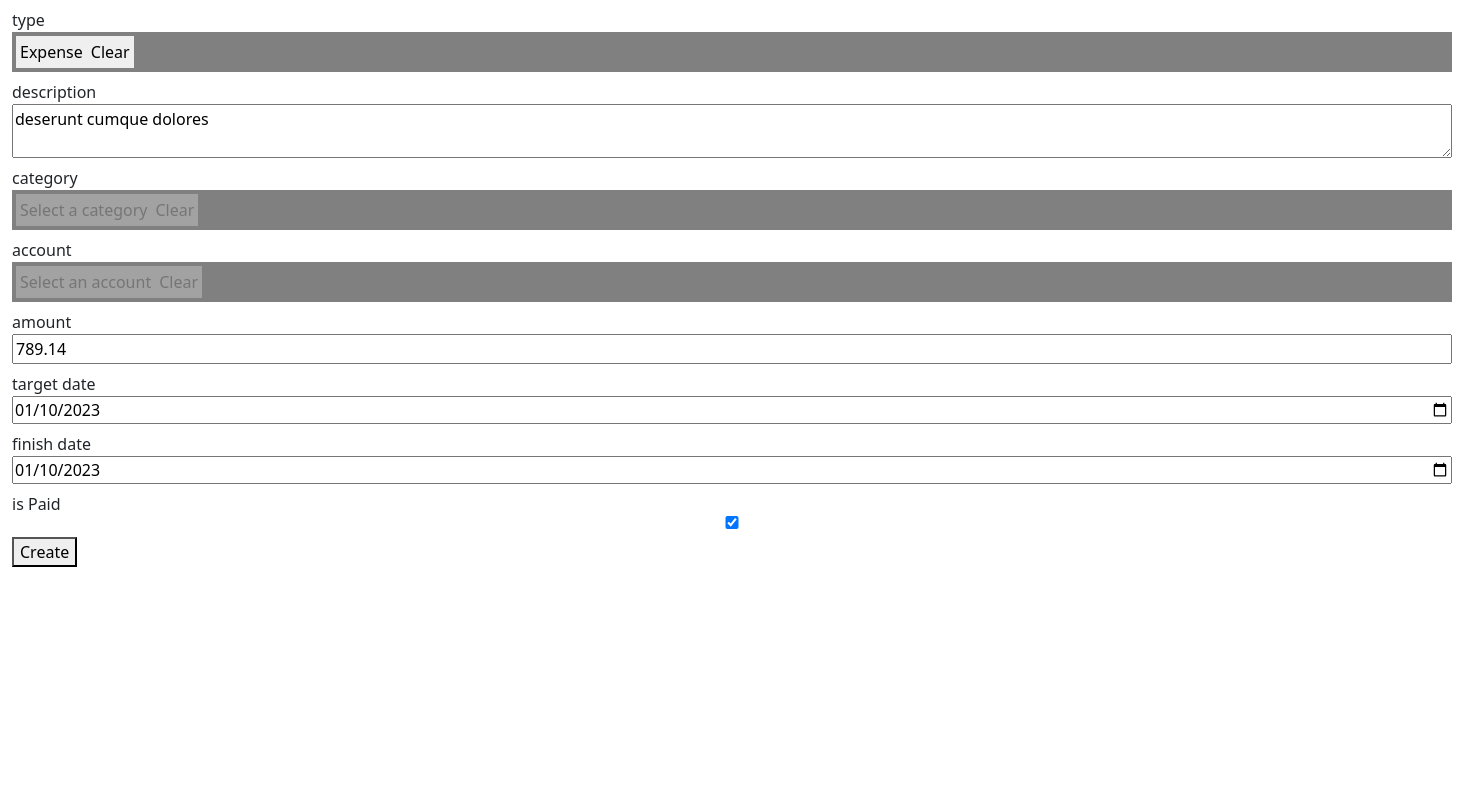
on submit › create transaction › with valid data › should reset form
The image size is (1464, 810).
Click the button "Create".
click(45, 552)  # box top-left (12, 537), bottom-right (77, 567)
Wait 101 ms
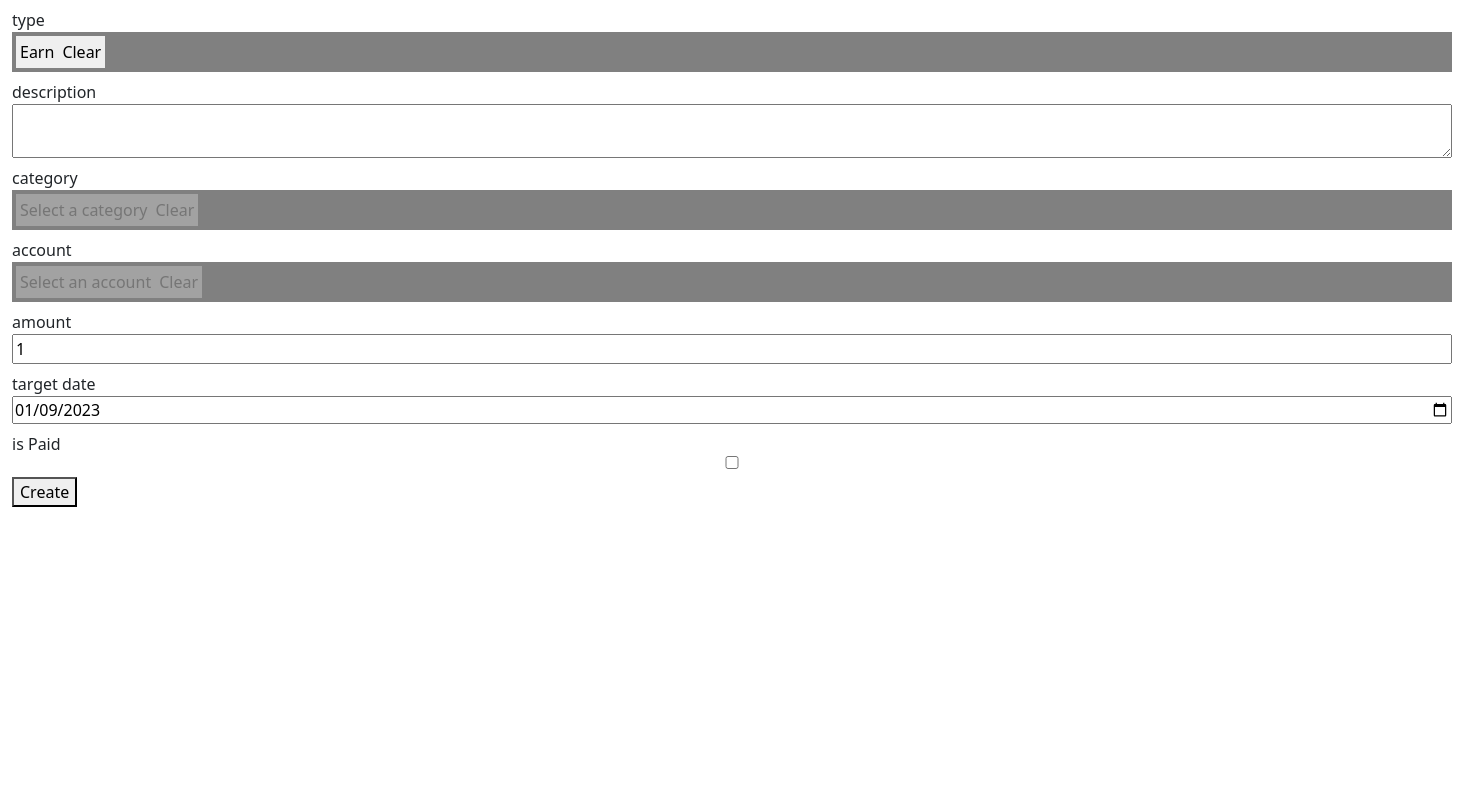
Now the text box titled "description" is empty, box top-left (12, 104), bottom-right (1452, 158)
Now the number field titled "amount" holds "1", box top-left (12, 334), bottom-right (1452, 364)
Now the label titled "finishdate" is gone
